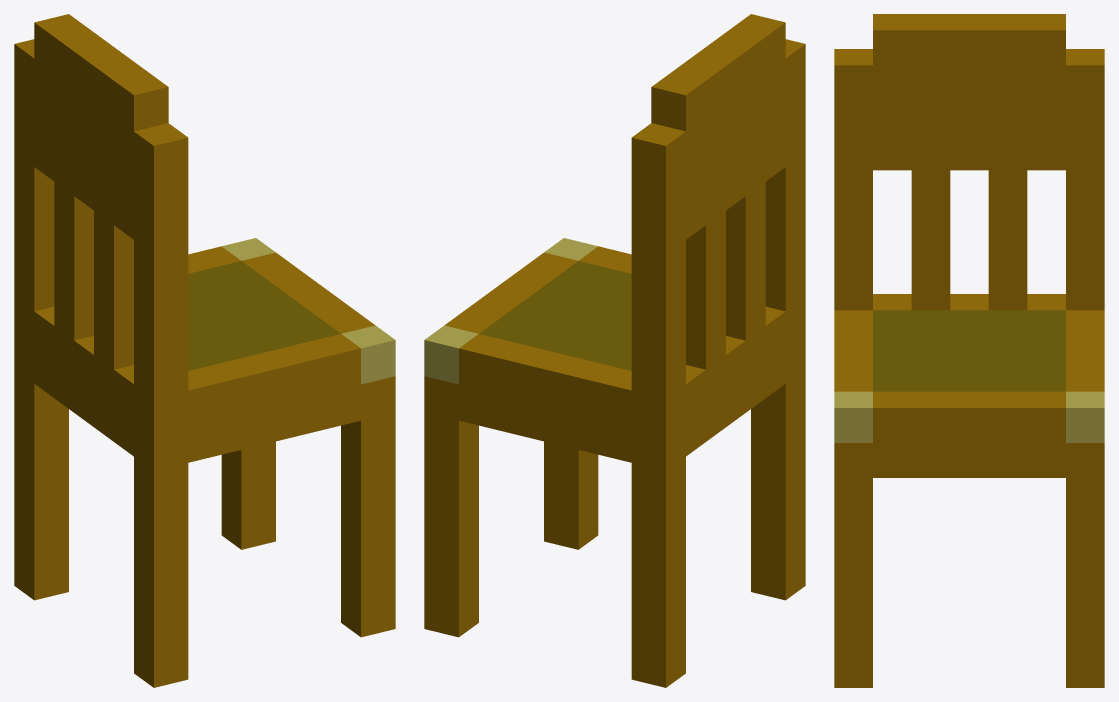
File: Chair00.gltf
3 renders of one model, left to right at view 1: azimuth 30°, elevation 25°; view 2: azimuth 150°, elevation 25°; view 3: azimuth 270°, elevation 25°, orthographic. The views are drawn at different scales.
Bounding box in the file's own units: 7 × 16 × 7.
